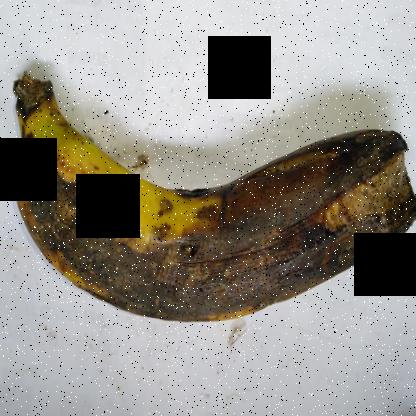rotten: (9, 106, 415, 326)
